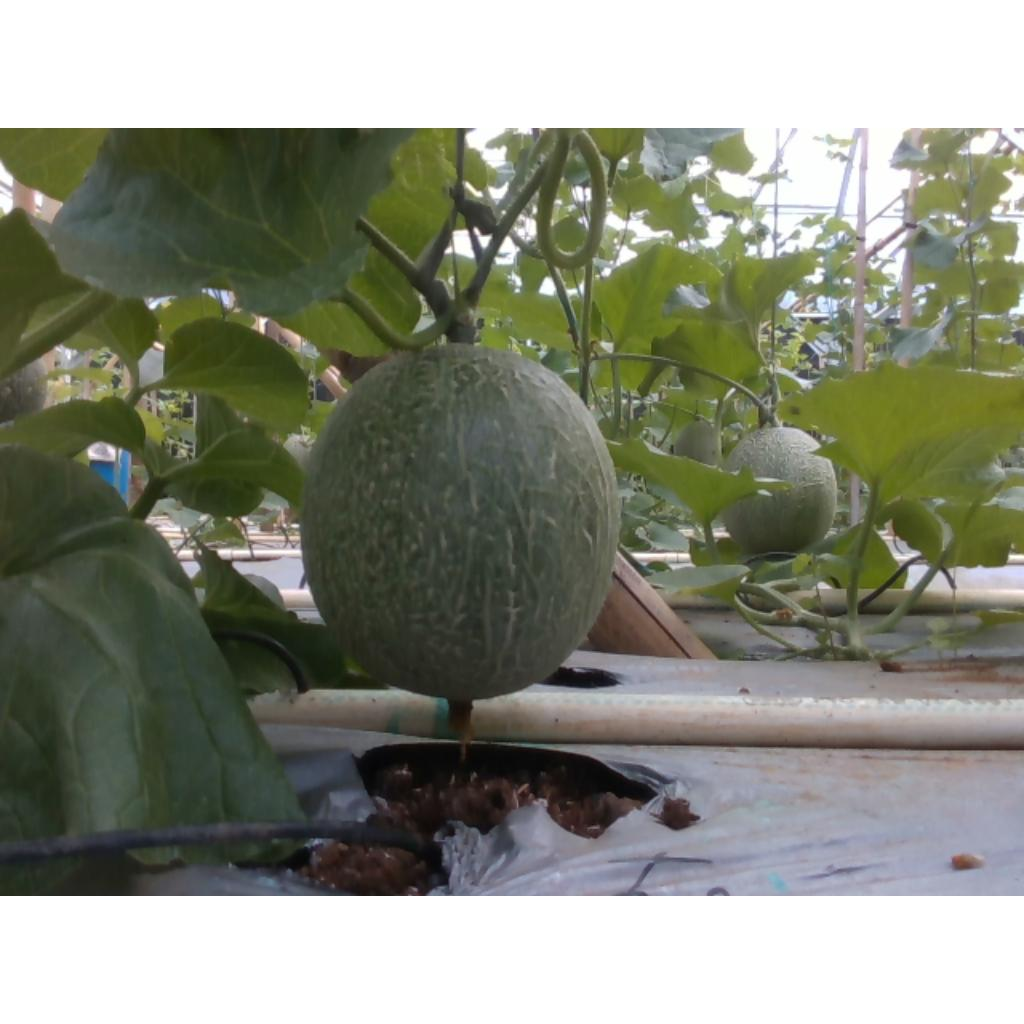melon: (302, 344, 621, 702)
